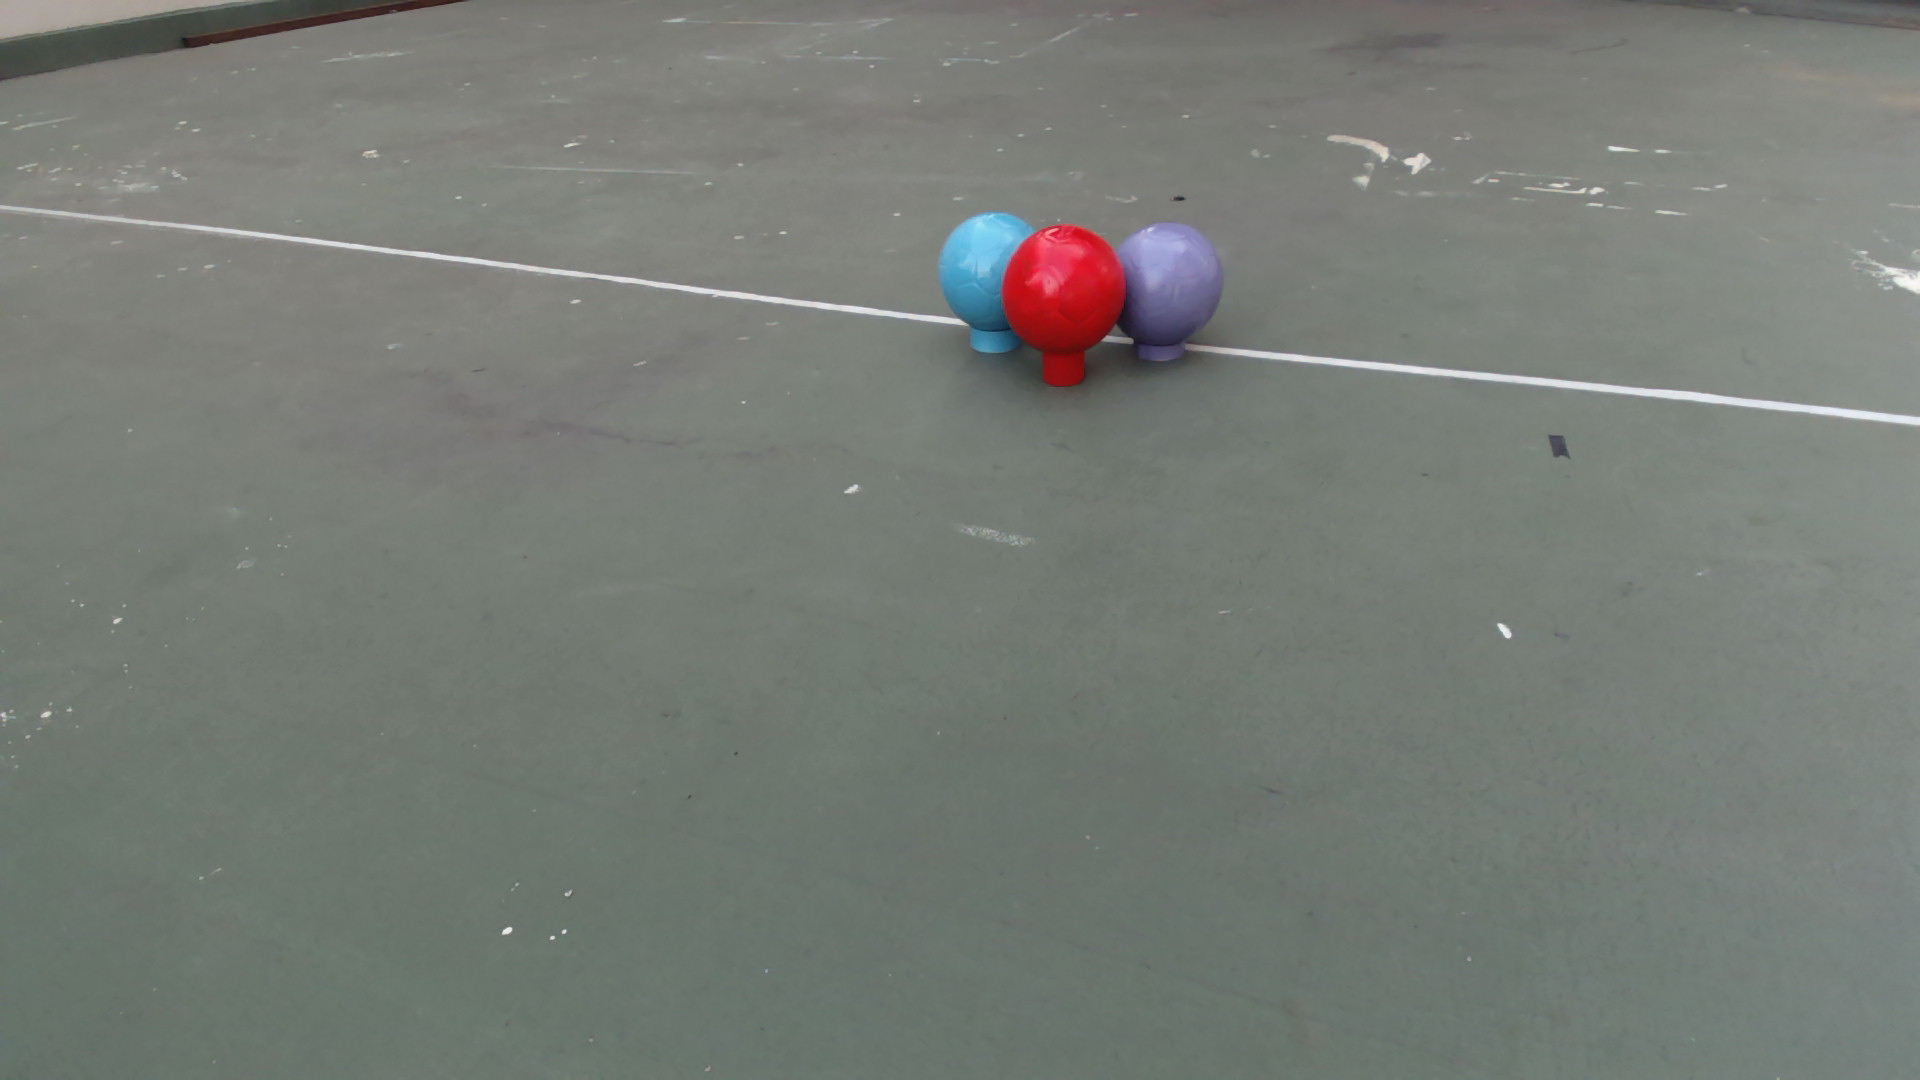Blue ball: (936, 208, 1034, 328)
Purple ball: (1116, 219, 1225, 347)
Red ball: (1001, 224, 1127, 356)
